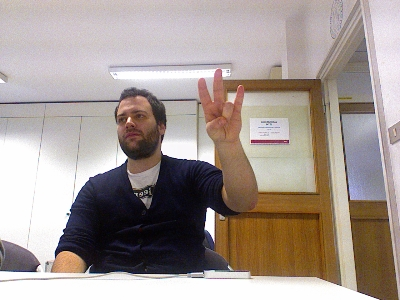观音: (196, 68, 244, 144)
